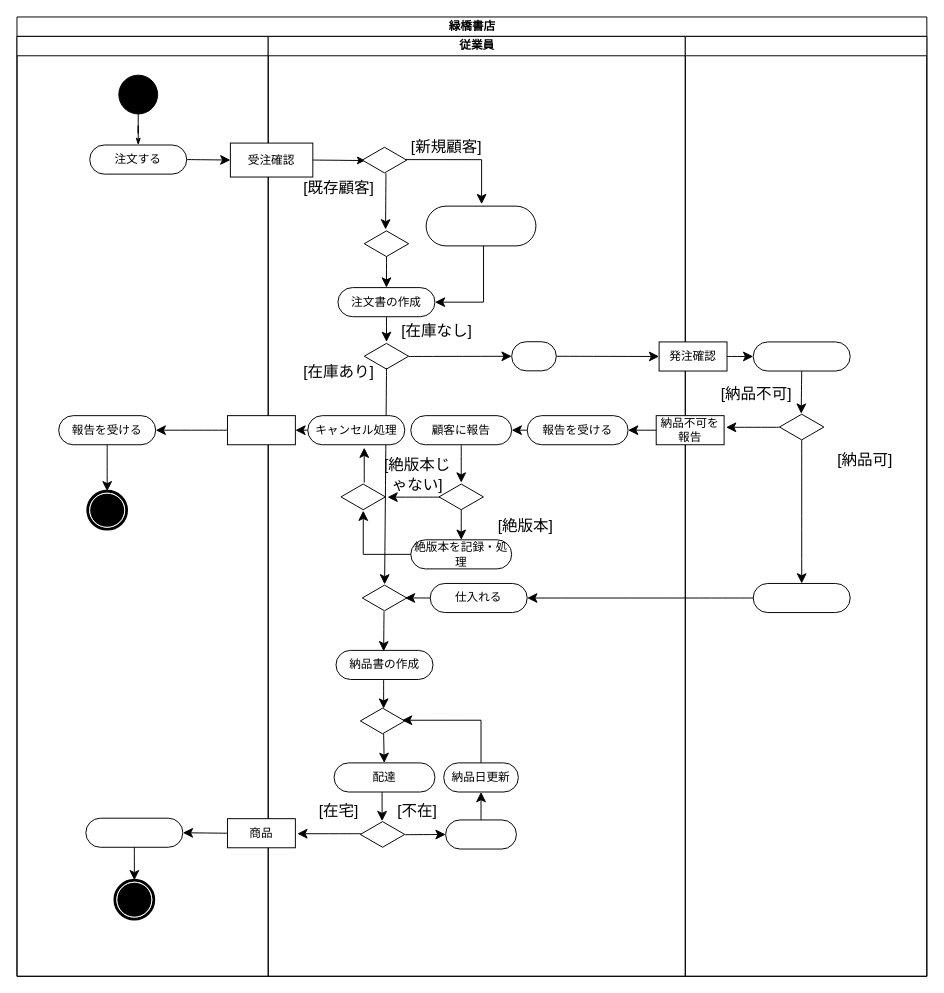
Image size: 944x993. Some labels were removed from this diagram. The box of each missing label's shape, as (x1, y1, x2, y2) in pixels:
キャンセル確定の報告: (226, 415, 295, 445)
卸業者・出版社: (684, 35, 927, 976)
受け取る: (85, 817, 183, 847)
受注: (752, 341, 850, 371)
持ち帰る: (445, 819, 516, 849)
発注: (511, 341, 556, 371)
納品: (752, 582, 850, 613)
顧客: (16, 35, 268, 976)
顧客情報を追加する: (425, 205, 536, 246)
